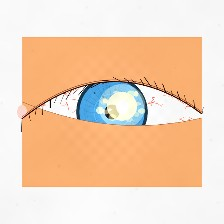corneal_ulcer: (97, 87, 147, 126)
